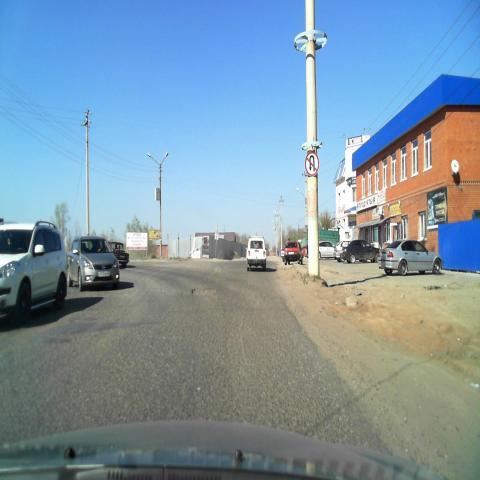3_19: (304, 152, 320, 177)
